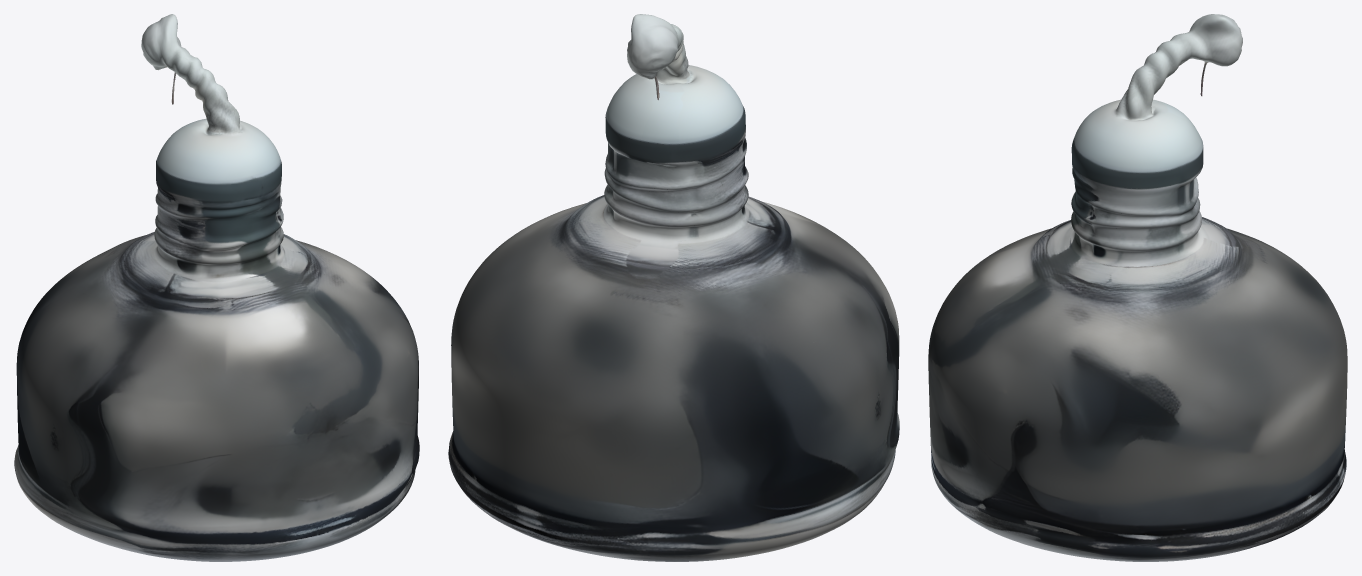
File: base_basic_pbr.fbx
3 views of the same model, side by side, from view 1: azimuth 30°, elevation 25°; view 2: azimuth 150°, elevation 25°; view 3: azimuth 270°, elevation 25° (orthographic). The views are drawn at different scales.
Parts seen in each view (by area): view 1: model; view 2: model; view 3: model.
Boxes of the visible parts, box(x1,y1,x2,y2) form: model: box(14, 14, 419, 561); model: box(448, 14, 899, 561); model: box(928, 14, 1347, 561).
Size of the model in its own units: 148 by 190 by 148.
Materials: 1 (1 with a texture image).
